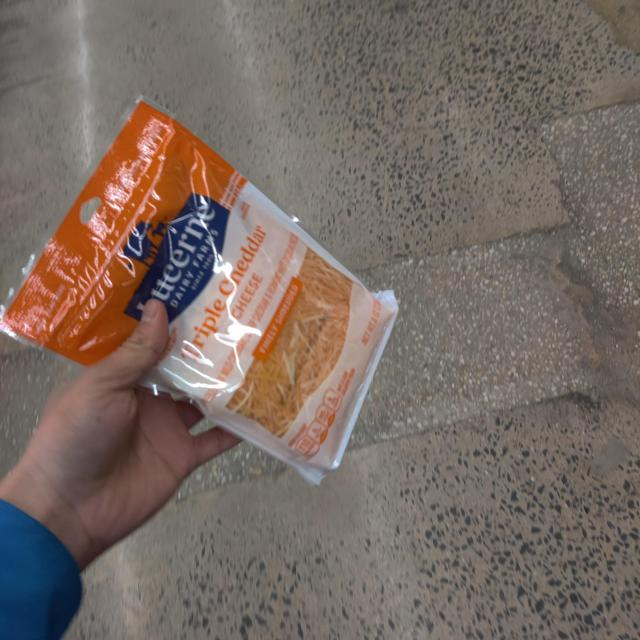Cheese: (37, 113, 433, 502)
